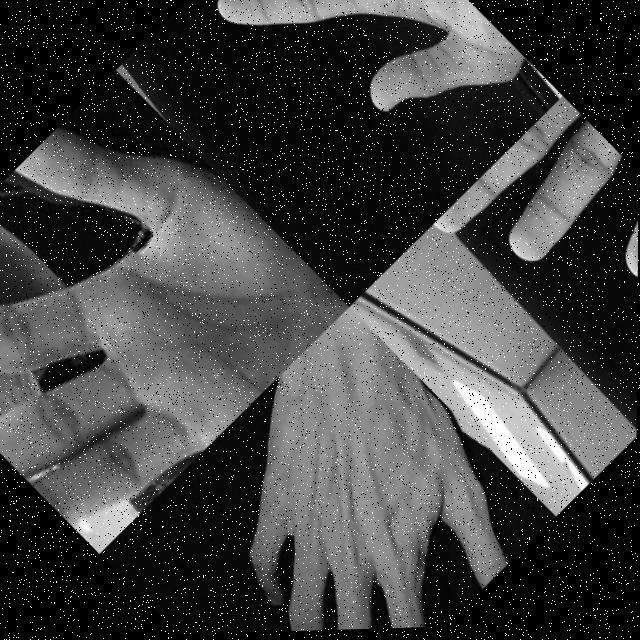no-gloves: (0, 64, 351, 556), (125, 303, 558, 637), (190, 0, 528, 202), (432, 96, 640, 408)
